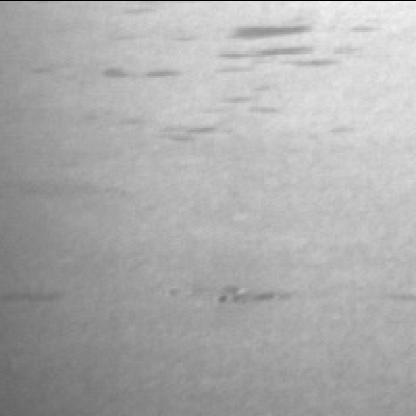inclusion: (208, 10, 343, 74), (200, 274, 312, 314), (88, 54, 194, 90), (0, 276, 68, 308)
